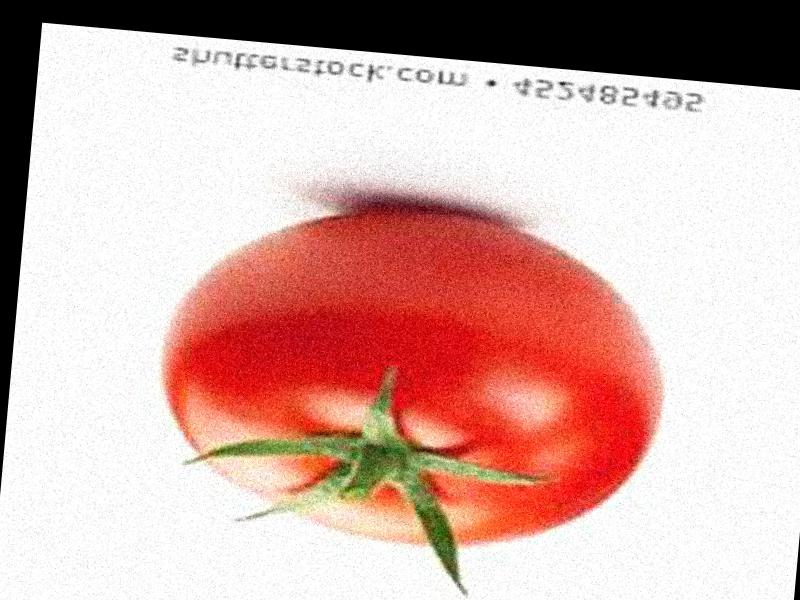Tomato: (154, 187, 671, 564)
